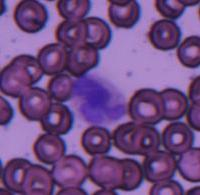N: (72, 72, 127, 125)
